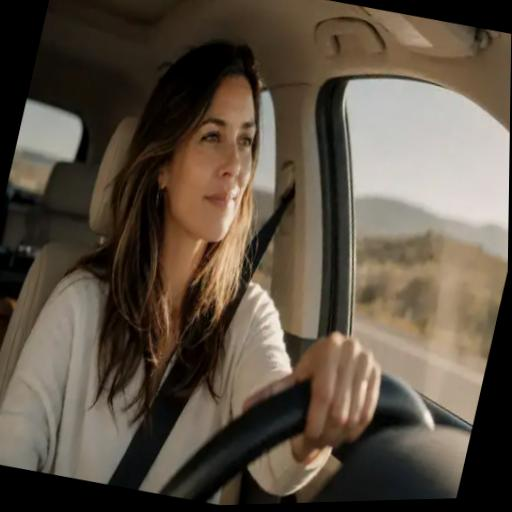Hands-on-the-Wheel: (266, 296, 416, 478)
